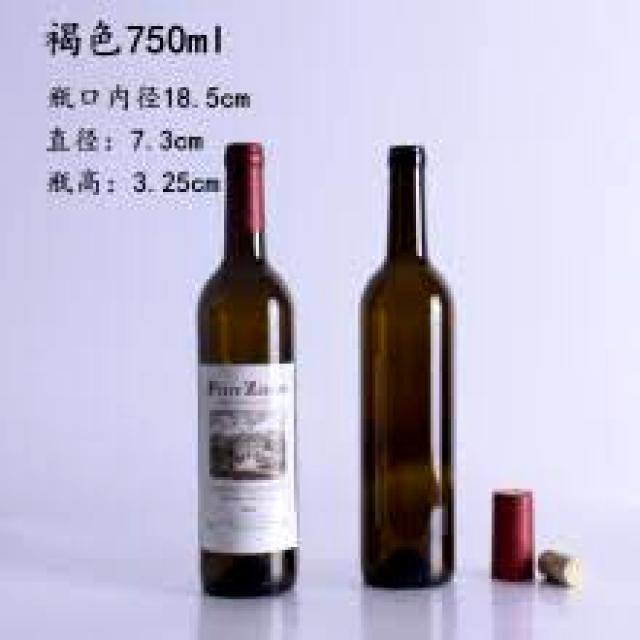Glass: (194, 138, 303, 602), (356, 141, 459, 589)
